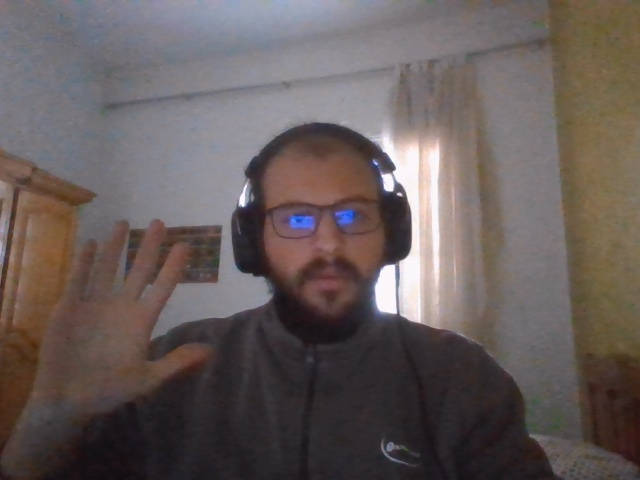Hello: (40, 219, 214, 412)
